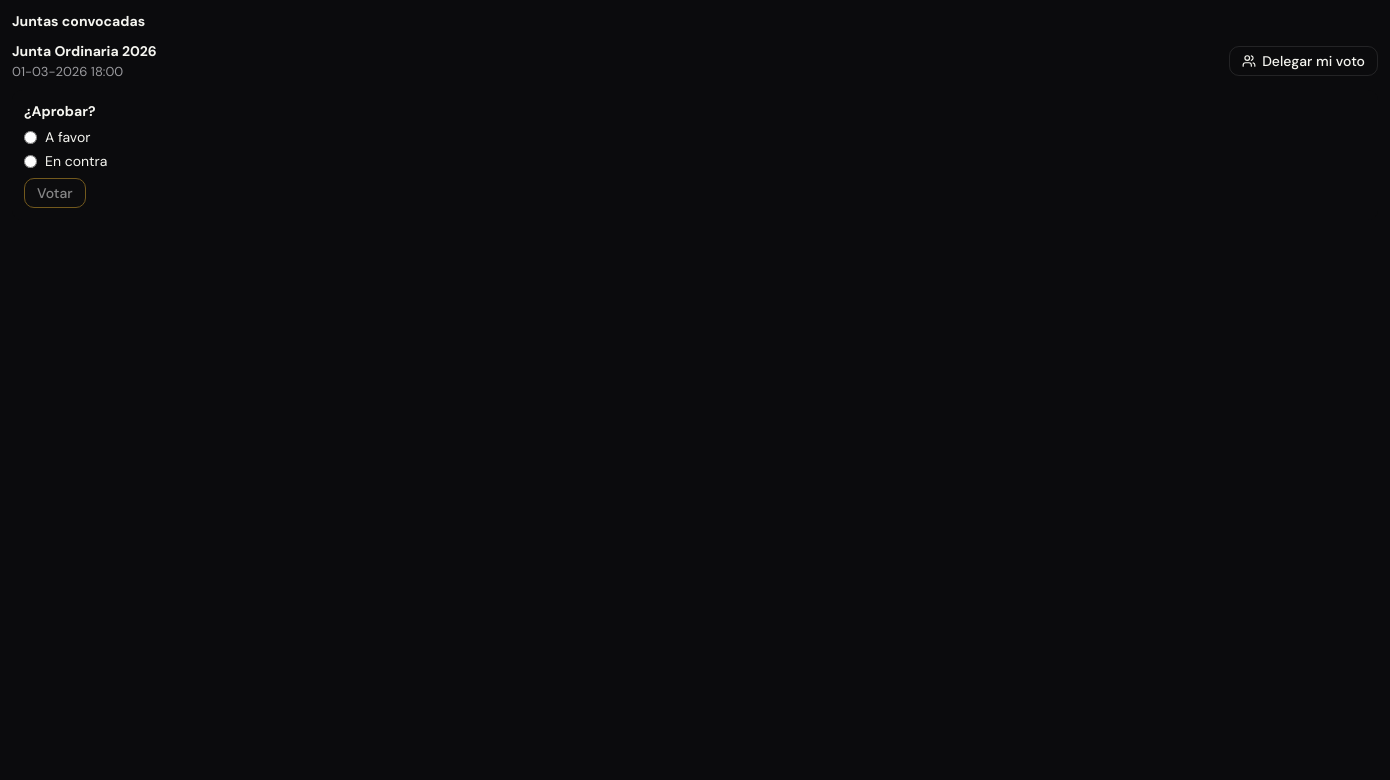
Scenario: JuntasSectionComponent › con una votación abierta, permite elegir una opción y votar por la propiedad
Click the radio button labelled "A favor" at coordinates (30, 137), box [24, 130, 37, 144]
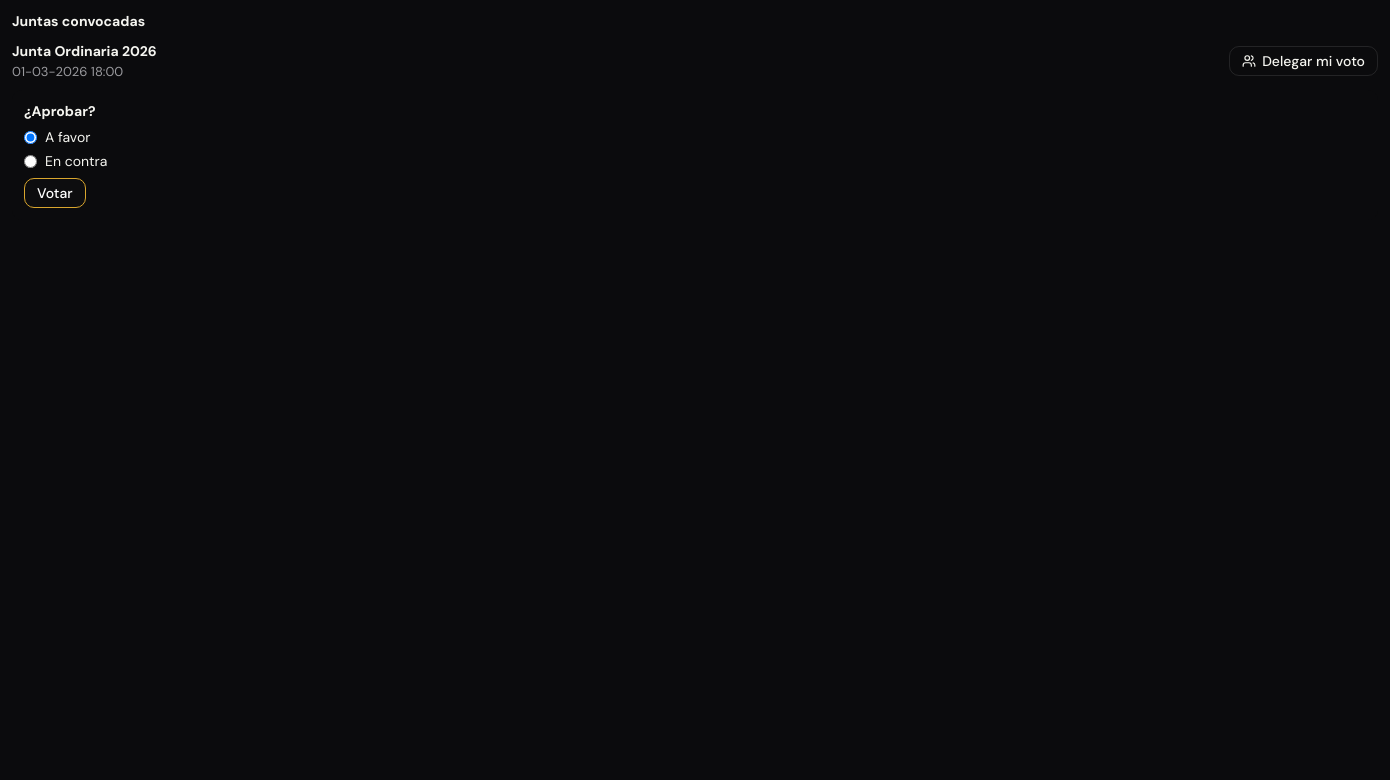
Click the button "Votar" at coordinates (55, 193), box [24, 178, 86, 208]
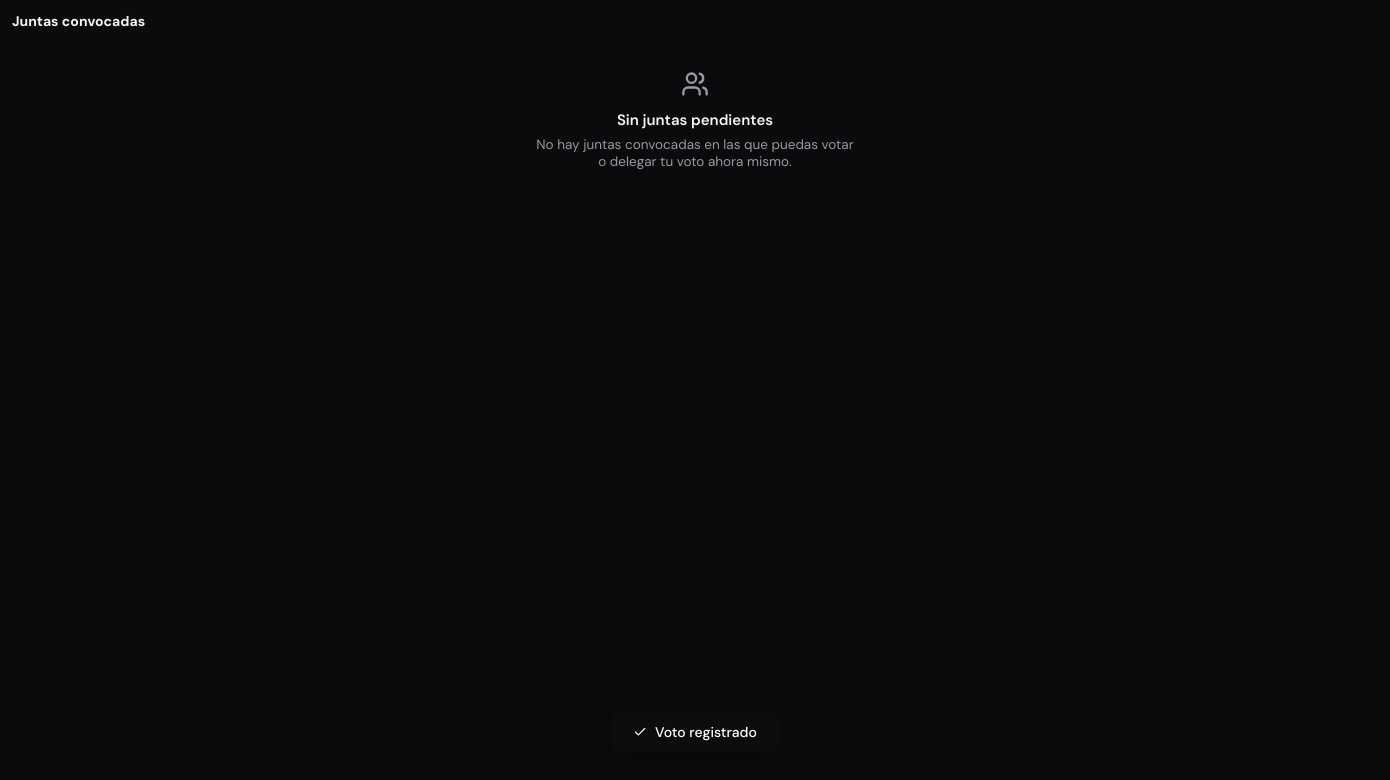
expect the text "Voto registrado" is shown: met, box [611, 712, 779, 752]
